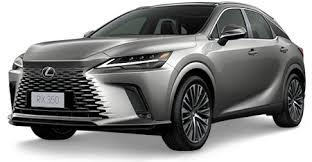lexus: (32, 62, 60, 81)
